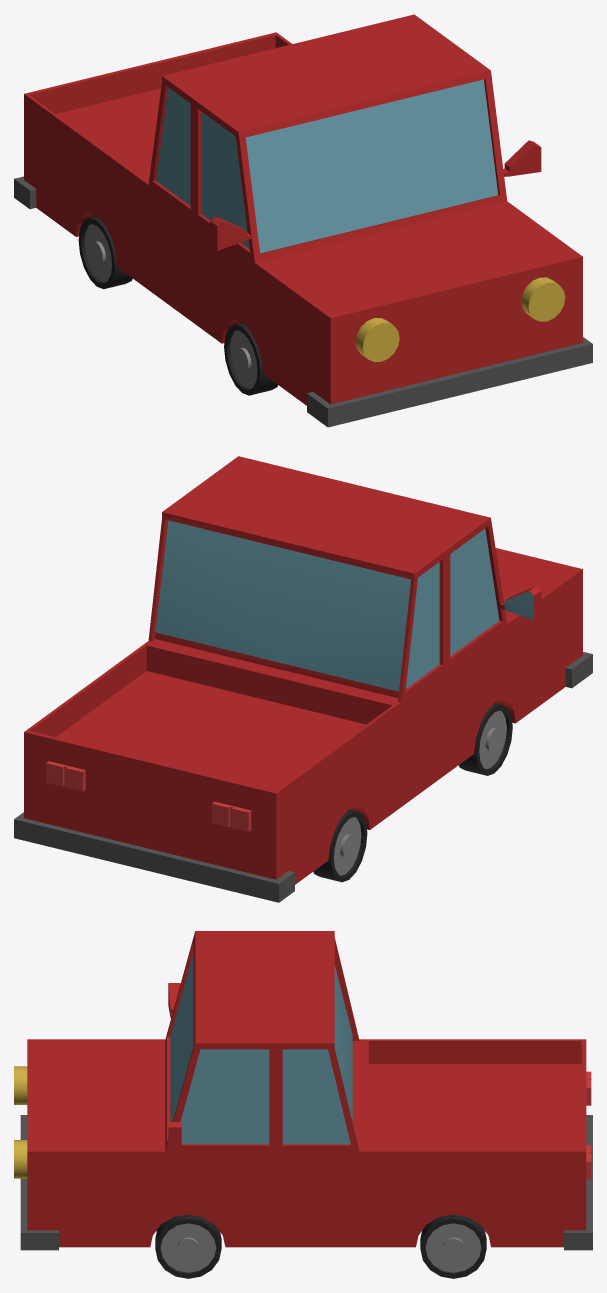
File: SmallTruck.fbx
3 renders of one model, top to bottom at view 1: azimuth 30°, elevation 25°; view 2: azimuth 150°, elevation 25°; view 3: azimuth 270°, elevation 25°, orthographic. The views are drawn at different scales.
Visible parts, largest first — view 1: Small_Truck, Right_FrontWheel, Right_BackWheel; view 2: Small_Truck, Right_BackWheel, Right_FrontWheel; view 3: Small_Truck, Left_BackWheel, Left_FrontWheel.
Boxes of the visible parts, left/top/right/bottom form: Small_Truck: left=14, top=14, right=592, bottom=427; Right_FrontWheel: left=224, top=322, right=277, bottom=395; Right_BackWheel: left=78, top=216, right=132, bottom=289; Small_Truck: left=14, top=456, right=592, bottom=902; Right_BackWheel: left=313, top=809, right=367, bottom=882; Right_FrontWheel: left=458, top=703, right=512, bottom=775; Small_Truck: left=14, top=931, right=592, bottom=1250; Left_BackWheel: left=420, top=1214, right=486, bottom=1278; Left_FrontWheel: left=155, top=1214, right=221, bottom=1278.
Bounding box in the file's own units: 257 × 196 × 436.
